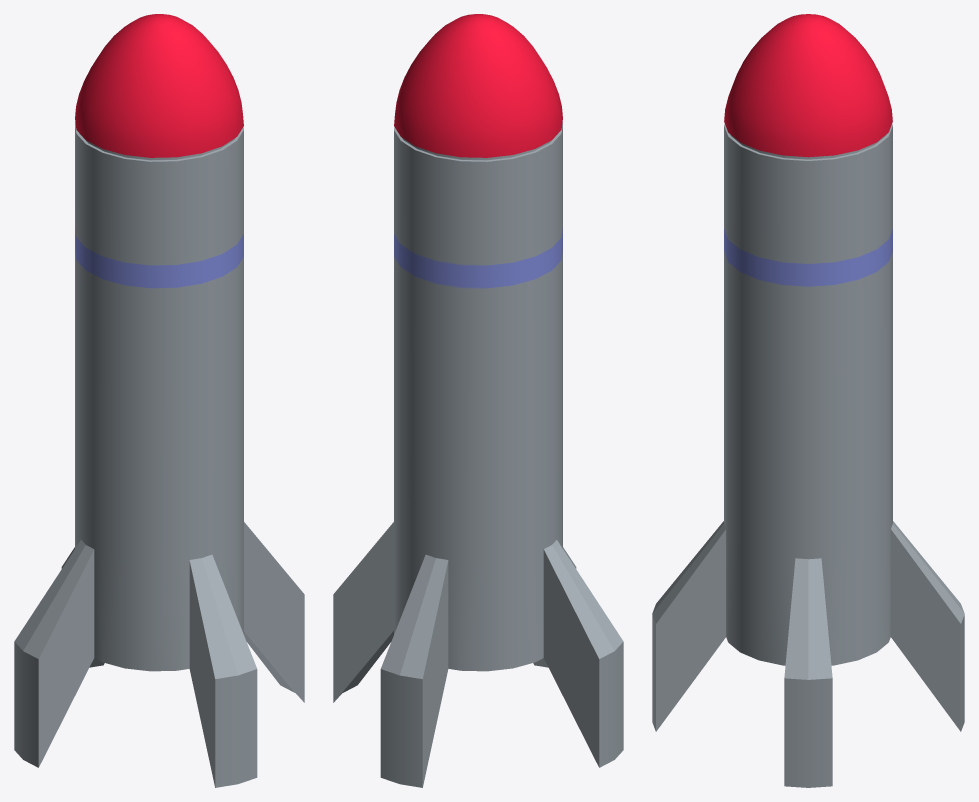
File: Roket Model.fbx
The picture shows the model from 3 angles, left to right: view 1: azimuth 30°, elevation 25°; view 2: azimuth 150°, elevation 25°; view 3: azimuth 270°, elevation 25°; orthographic projection.
Visible parts, largest first — view 1: pSphere2; view 2: pSphere2; view 3: pSphere2.
Boxes of the visible parts, bbox=[...] form: pSphere2: bbox=[14, 14, 304, 787]; pSphere2: bbox=[333, 14, 623, 787]; pSphere2: bbox=[652, 14, 964, 787].
Bounding box in the file's own units: 11.11 × 27.62 × 11.11.
Materials: 1 (1 with a texture image).
